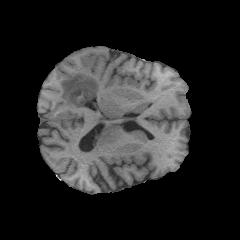glioma: (60, 73, 99, 106)
